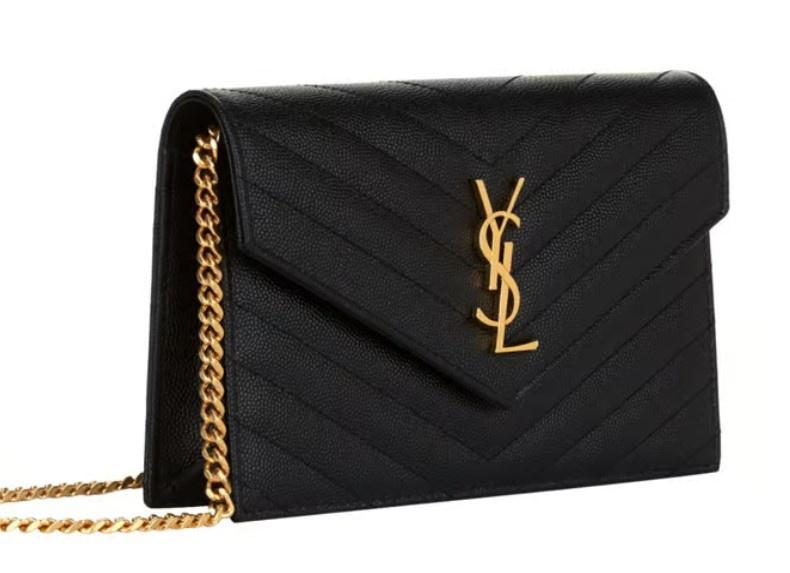YVES-SAINT-LAURENT: (472, 178, 539, 353)
